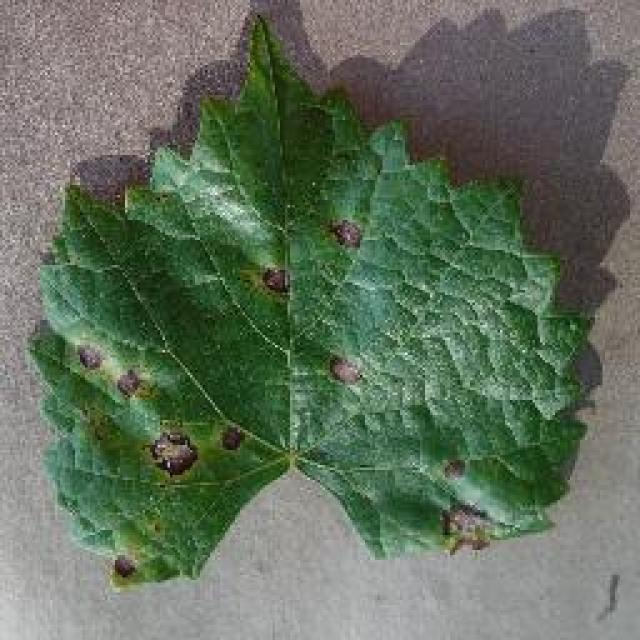Grape___Black_rot: (23, 9, 603, 594)
